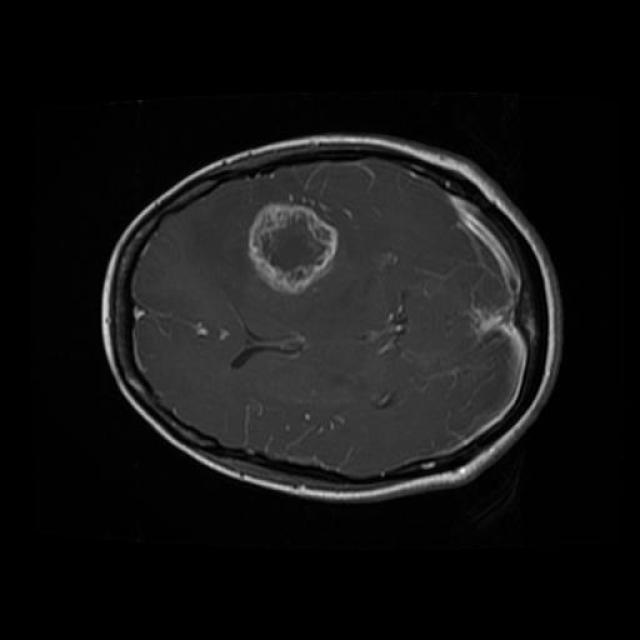Glioma: (248, 205, 337, 293)
